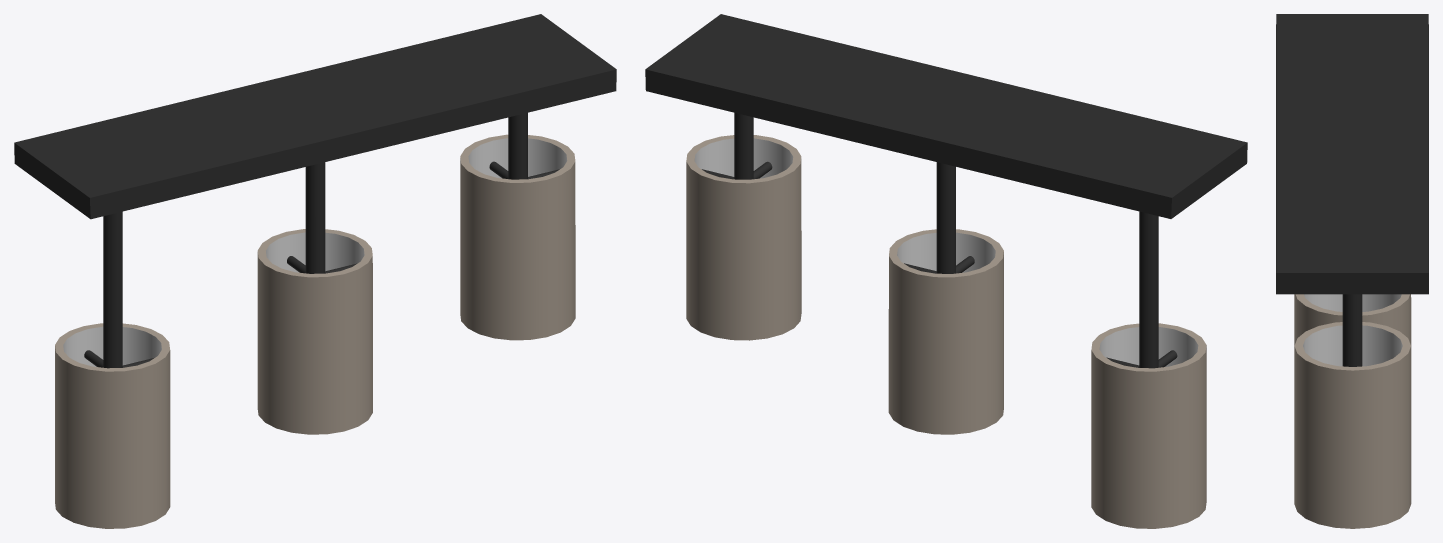
The model's file is Spot3_4.fbx.
3 renders of one model, left to right at view 1: azimuth 30°, elevation 25°; view 2: azimuth 150°, elevation 25°; view 3: azimuth 270°, elevation 25°, orthographic.
Visible parts, largest first — view 1: pCube2071, pPipe139, pPipe138, pPipe137, pCylinder858, pCylinder854, pCylinder850; view 2: pCube2071, pPipe137, pPipe139, pPipe138, pCylinder858, pCylinder854, pCylinder850; view 3: pCube2071, pPipe137, pPipe138, pCylinder850.
Boxes of the visible parts, x1,y1,x2,y2 form: pCube2071: (14, 14, 616, 219); pPipe139: (55, 323, 170, 528); pPipe138: (257, 229, 372, 434); pPipe137: (460, 134, 575, 340); pCylinder858: (103, 211, 122, 368); pCylinder854: (305, 162, 325, 273); pCylinder850: (508, 112, 527, 179); pCube2071: (645, 14, 1247, 218); pPipe137: (686, 135, 801, 340); pPipe139: (1091, 323, 1206, 528); pPipe138: (888, 229, 1003, 434); pCylinder858: (1139, 211, 1158, 368); pCylinder854: (936, 162, 955, 273); pCylinder850: (734, 112, 753, 179); pCube2071: (1276, 14, 1428, 294); pPipe137: (1294, 322, 1411, 528); pPipe138: (1294, 294, 1411, 405); pCylinder850: (1342, 294, 1362, 366).
Size of the model in its own units: 30.58 by 19.36 by 7.63.
